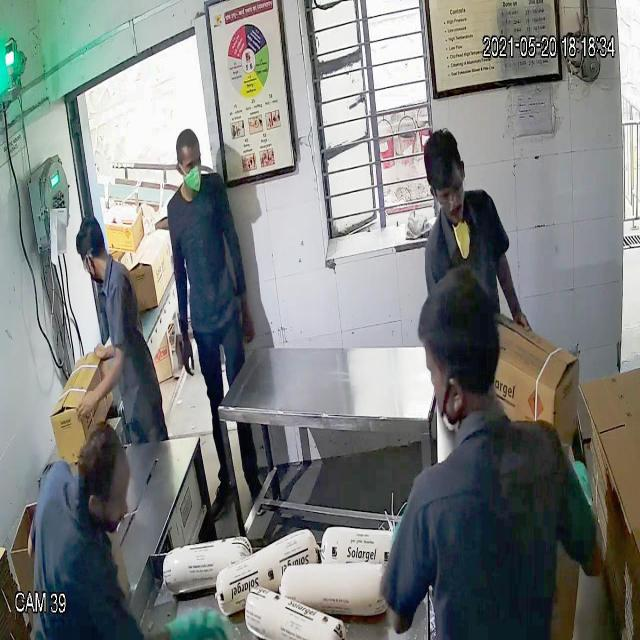glasses: (429, 181, 469, 208)
no-glass: (175, 153, 203, 176)
